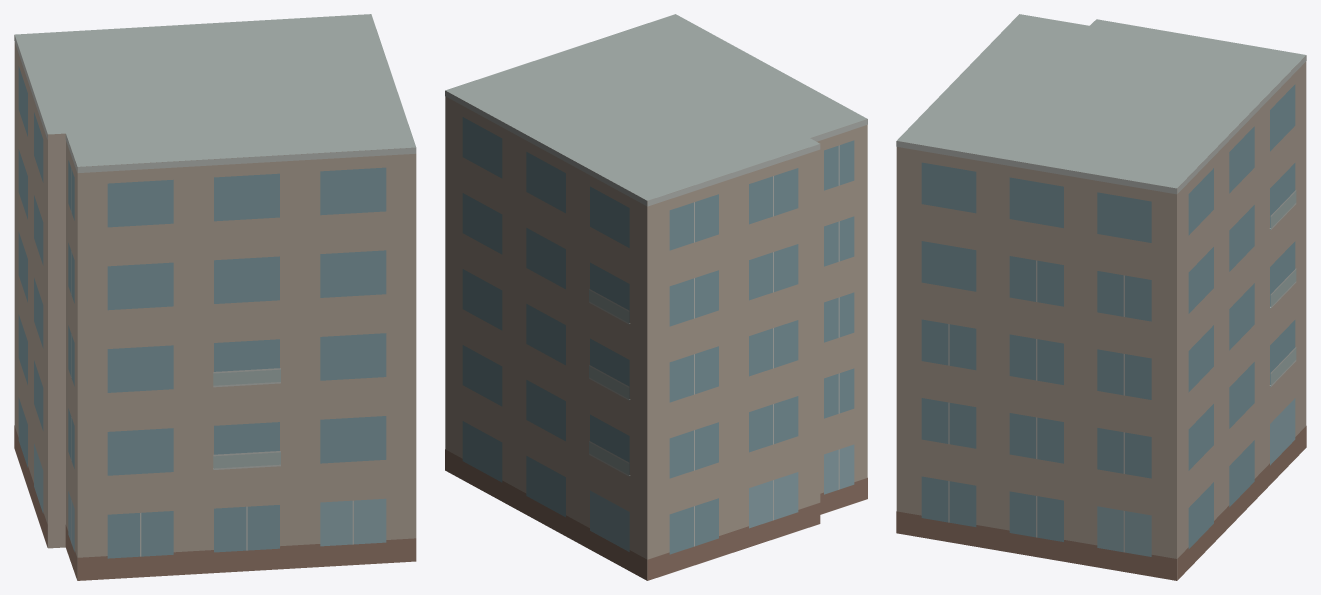
File: survey-upis-32591116.glb
3 views of the same model, side by side, from view 1: azimuth 30°, elevation 25°; view 2: azimuth 150°, elevation 25°; view 3: azimuth 270°, elevation 25° (orthographic). The views are drawn at different scales.
Parts seen in each view (by area): view 1: survey-upis-32591116.tmp; view 2: survey-upis-32591116.tmp; view 3: survey-upis-32591116.tmp.
Part boxes in pixels (<box>): survey-upis-32591116.tmp: <box>14,14,416,580</box>; survey-upis-32591116.tmp: <box>445,14,867,580</box>; survey-upis-32591116.tmp: <box>896,14,1306,580</box>.
Bounding box in the file's own units: 15.41 × 16.15 × 15.3.
